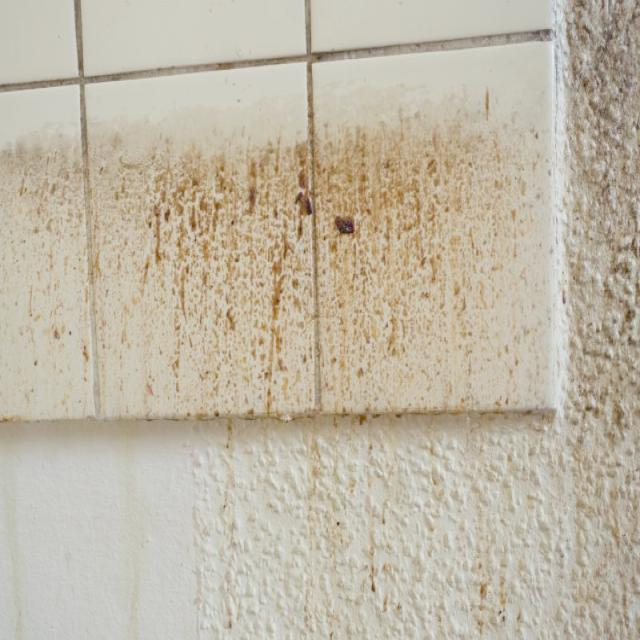wall_stain: (0, 116, 548, 414)
